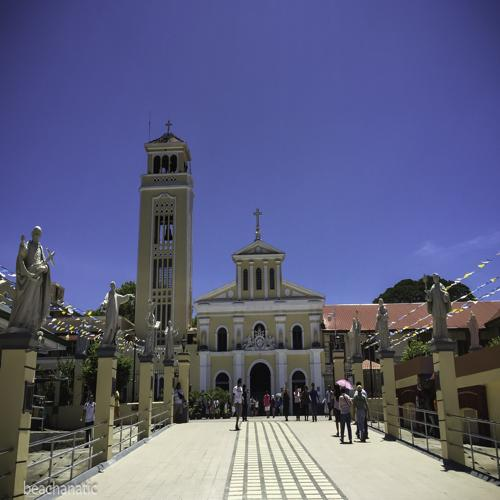Manaoag Church: (133, 119, 324, 415)
